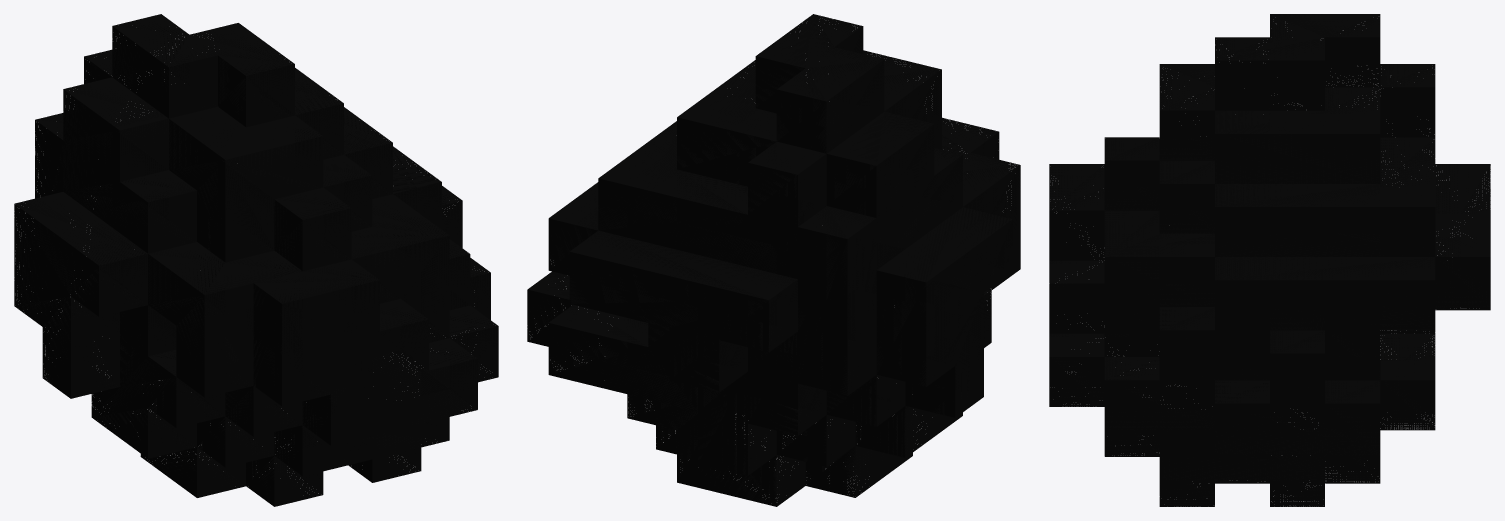
Rendered from obstacle_3.fbx.
3 renders of one model, left to right at view 1: azimuth 30°, elevation 25°; view 2: azimuth 150°, elevation 25°; view 3: azimuth 270°, elevation 25°, orthographic. The views are drawn at different scales.
Parts seen in each view (by area): view 1: obstacle_3; view 2: obstacle_3; view 3: obstacle_3.
Part boxes in pixels (x1,y1,x2,y2): obstacle_3: (14, 14, 498, 506); obstacle_3: (527, 14, 1020, 506); obstacle_3: (1049, 14, 1490, 506).
Size of the model in its own units: 800 by 800 by 800.
